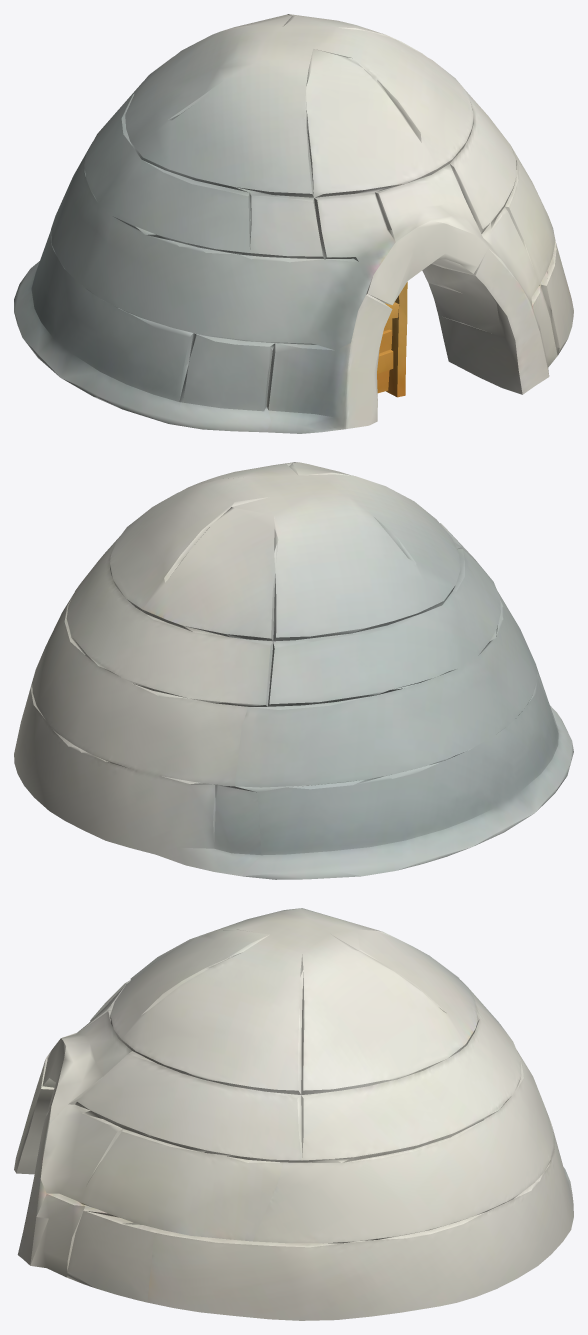
File: igloo.glb
3 views of the same model, one above another, from view 1: azimuth 30°, elevation 25°; view 2: azimuth 150°, elevation 25°; view 3: azimuth 270°, elevation 25° (orthographic).
Parts seen in each view (by area): view 1: model; view 2: model; view 3: model.
Boxes of the visible parts, x1,y1,x2,y2 form: model: (14, 14, 573, 433); model: (14, 462, 573, 879); model: (14, 908, 573, 1320).
Bounding box in the file's own units: 1.89 × 1.06 × 1.91.
1 material, 1 textured.
